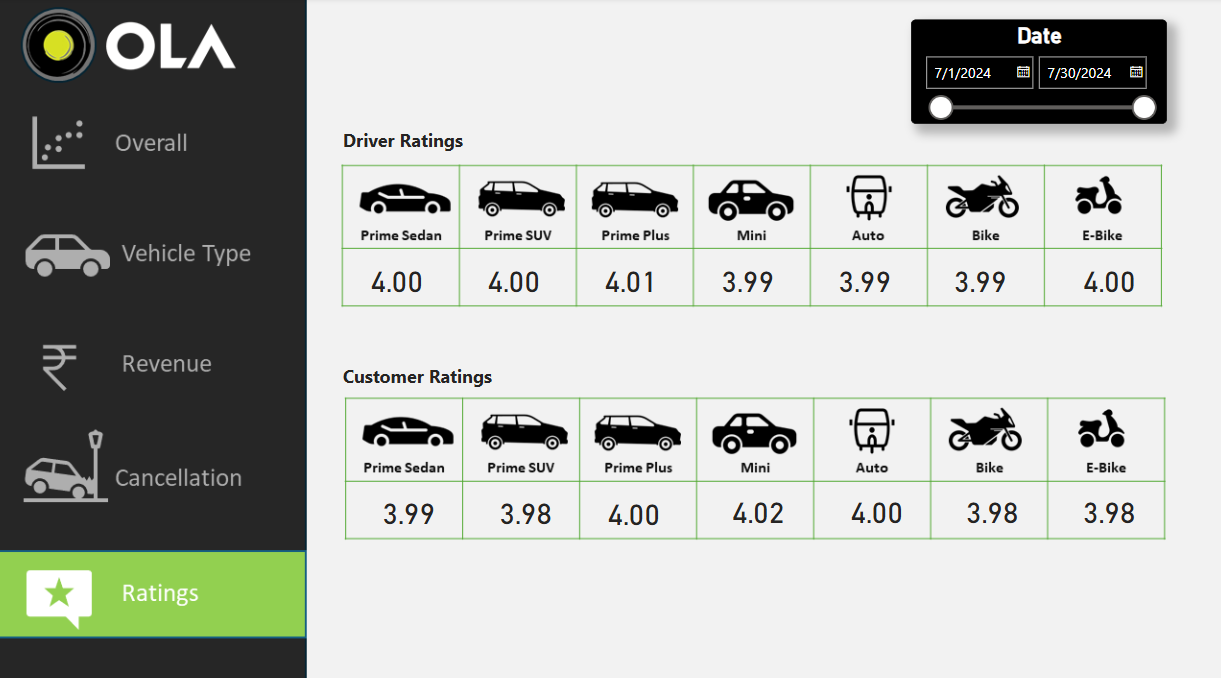

The page's visual inventory and layout, read from the dashboard file:
{"tool":"powerbi","page":{"name":"Ratings","canvas":[1280,720],"ordinal":4},"visuals":[{"type":"actionButton","box":[0,107.5,322.5,92.5],"z":0},{"type":"actionButton","box":[0,220,322.5,92.5],"z":1000},{"type":"actionButton","box":[0,442.5,322.5,92.5],"z":2000},{"type":"actionButton","box":[0,350,322.5,92.5],"z":3000},{"type":"card","fields":{"Values":["Avg(July.Driver_Ratings)"]},"box":[356.7,266.7,121.7,53.3],"z":4000},{"type":"card","fields":{"Values":["Avg(July.Driver_Ratings)"]},"box":[478.3,266.7,121.7,53.3],"z":5000},{"type":"card","fields":{"Values":["Avg(July.Driver_Ratings)"]},"box":[600,266.7,121.7,53.3],"z":6000},{"type":"card","fields":{"Values":["Avg(July.Driver_Ratings)"]},"box":[721.7,266.7,121.7,53.3],"z":7000},{"type":"card","fields":{"Values":["Avg(July.Driver_Ratings)"]},"box":[843.3,266.7,121.7,53.3],"z":8000},{"type":"card","fields":{"Values":["Avg(July.Driver_Ratings)"]},"box":[965,266.7,121.7,53.3],"z":9000},{"type":"card","fields":{"Values":["Avg(July.Driver_Ratings)"]},"box":[1098.3,266.7,121.7,53.3],"z":10000},{"type":"textbox","box":[356.7,131.7,183.3,188.3],"z":11000},{"type":"textbox","box":[356.7,376.7,243.3,186.7],"z":12000},{"type":"card","fields":{"Values":["Avg(July.Customer_Rating)"]},"box":[368.3,510,121.7,53.3],"z":13000},{"type":"card","fields":{"Values":["Avg(July.Customer_Rating)"]},"box":[490,510,121.7,53.3],"z":14000},{"type":"card","fields":{"Values":["Avg(July.Customer_Rating)"]},"box":[603.3,513.3,121.7,48.3],"z":15000},{"type":"card","fields":{"Values":["Avg(July.Customer_Rating)"]},"box":[733.3,506.7,121.7,58.3],"z":16000},{"type":"card","fields":{"Values":["Avg(July.Customer_Rating)"]},"box":[856.7,506.7,121.7,58.3],"z":17000},{"type":"card","fields":{"Values":["Avg(July.Customer_Rating)"]},"box":[976.7,506.7,121.7,58.3],"z":18000},{"type":"card","fields":{"Values":["Avg(July.Customer_Rating)"]},"box":[1098.3,506.7,121.7,58.3],"z":18001},{"type":"slicer","title":"Date","fields":{"Values":["July.Date"]},"box":[953.3,23.3,266.7,108.3],"z":18002}]}

Visuals, with their boxes on the page's 1280x720 design canvas (x1, y1, x2, y2). These are canvas units, not pixel positions in the 1221x678 screenshot, which may show the page scaled, cropped or inside an application window:
actionButton: 0:108:322:200
actionButton: 0:220:322:312
actionButton: 0:442:322:535
actionButton: 0:350:322:442
card - Avg(July.Driver_Ratings): 357:267:478:320
card - Avg(July.Driver_Ratings): 478:267:600:320
card - Avg(July.Driver_Ratings): 600:267:722:320
card - Avg(July.Driver_Ratings): 722:267:843:320
card - Avg(July.Driver_Ratings): 843:267:965:320
card - Avg(July.Driver_Ratings): 965:267:1087:320
card - Avg(July.Driver_Ratings): 1098:267:1220:320
textbox: 357:132:540:320
textbox: 357:377:600:563
card - Avg(July.Customer_Rating): 368:510:490:563
card - Avg(July.Customer_Rating): 490:510:612:563
card - Avg(July.Customer_Rating): 603:513:725:562
card - Avg(July.Customer_Rating): 733:507:855:565
card - Avg(July.Customer_Rating): 857:507:978:565
card - Avg(July.Customer_Rating): 977:507:1098:565
card - Avg(July.Customer_Rating): 1098:507:1220:565
"Date" slicer: 953:23:1220:132
